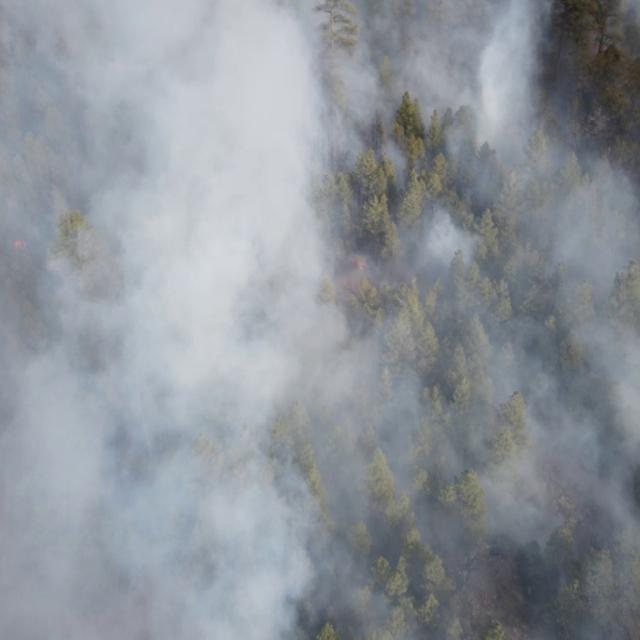fire: (13, 237, 32, 256), (354, 256, 372, 274)
smoke: (0, 0, 640, 640)
